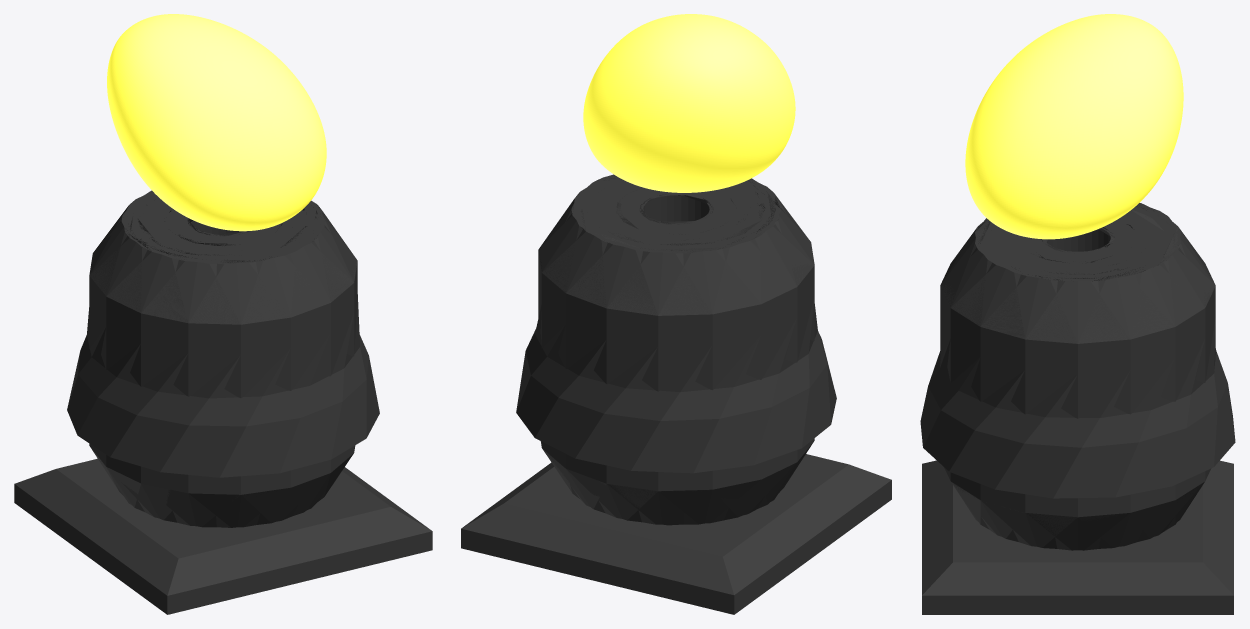
Rendered from Kunstvoorwerp2.fbx.
3 views of the same model, side by side, from view 1: azimuth 30°, elevation 25°; view 2: azimuth 150°, elevation 25°; view 3: azimuth 270°, elevation 25° (orthographic). The views are drawn at different scales.
Parts seen in each view (by area): view 1: Cube, Cube.001, Plane; view 2: Cube, Plane, Cube.001; view 3: Cube, Cube.001, Plane.
Boxes of the visible parts, <box> form: Cube: <box>67,190,379,527</box>; Cube.001: <box>107,14,326,231</box>; Plane: <box>14,458,432,614</box>; Cube: <box>516,174,836,525</box>; Plane: <box>461,454,891,614</box>; Cube.001: <box>583,14,795,192</box>; Cube: <box>920,203,1235,550</box>; Cube.001: <box>965,14,1183,239</box>; Plane: <box>922,460,1233,614</box>.
Bounding box in the file's own units: 202 × 361 × 202.
